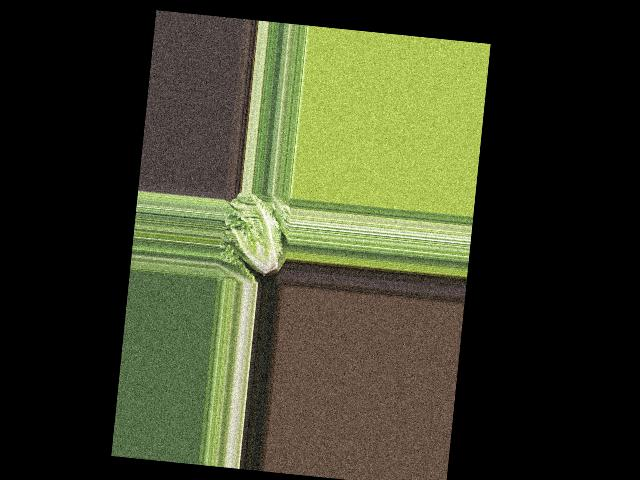lettuce: (221, 192, 292, 282)
